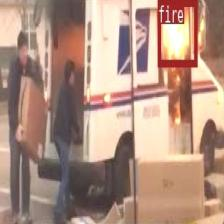fire: (158, 0, 196, 65)
